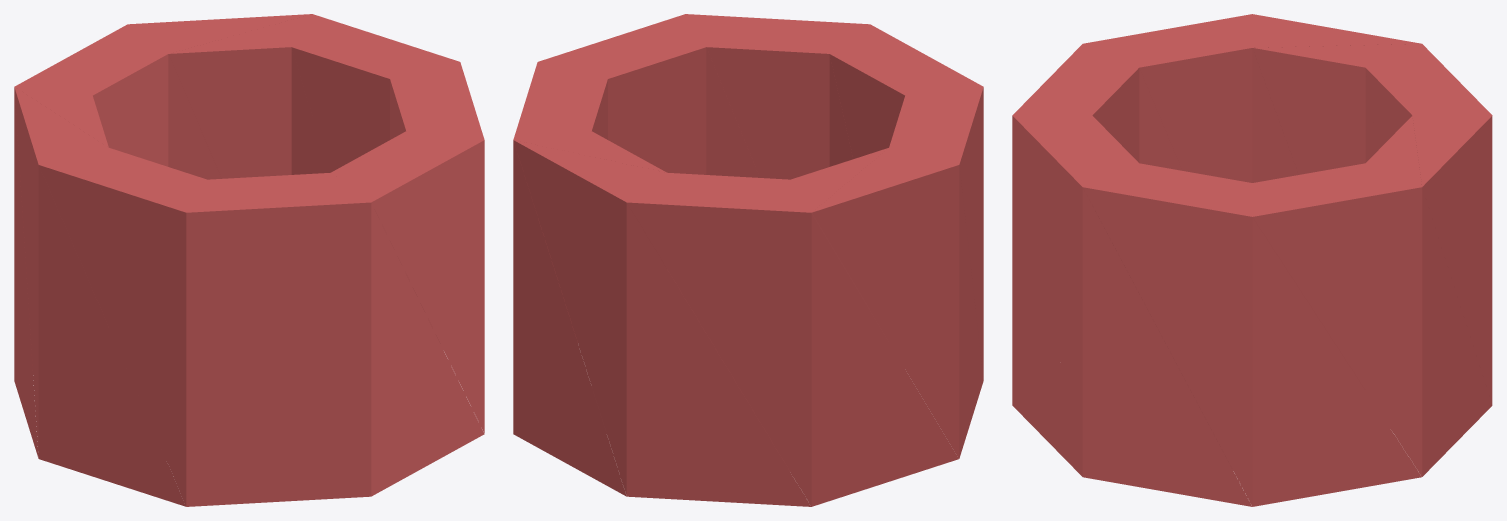
The model's file is obj_dokan.glb.
3 views of the same model, side by side, from view 1: azimuth 30°, elevation 25°; view 2: azimuth 150°, elevation 25°; view 3: azimuth 270°, elevation 25° (orthographic).
Parts seen in each view (by area): view 1: obj_dokan_col; view 2: obj_dokan_col; view 3: obj_dokan_col.
Boxes of the visible parts, box(x1,y1,x2,y2) form: obj_dokan_col: box(14, 14, 484, 506); obj_dokan_col: box(513, 14, 983, 506); obj_dokan_col: box(1012, 14, 1492, 506).
Size of the model in its own units: 3 by 2 by 3.
